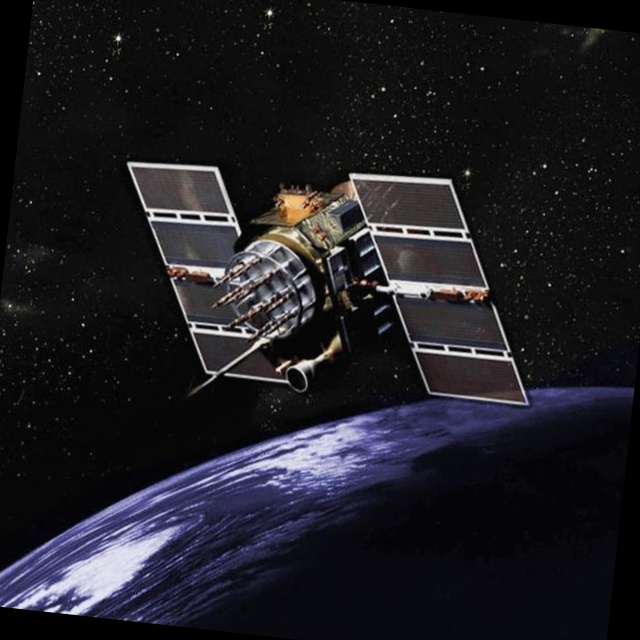medium_debris: (93, 132, 564, 466)
